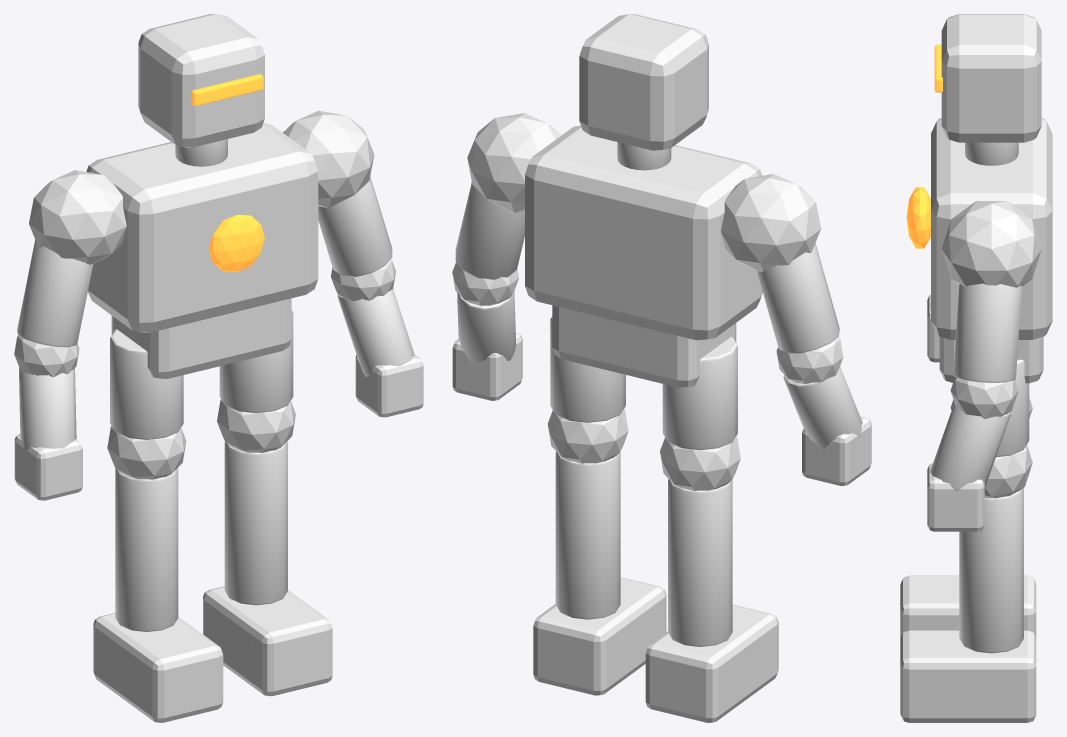
File: SM_WoodGolemTarget.glb
The picture shows the model from 3 angles, left to right: view 1: azimuth 30°, elevation 25°; view 2: azimuth 150°, elevation 25°; view 3: azimuth 270°, elevation 25°; orthographic projection. The views are drawn at different scales.
Parts seen in each view (by area): view 1: SM_WoodGolemTarget; view 2: SM_WoodGolemTarget; view 3: SM_WoodGolemTarget.
Boxes of the visible parts, <box> form: SM_WoodGolemTarget: <box>14,14,423,722</box>; SM_WoodGolemTarget: <box>452,14,871,722</box>; SM_WoodGolemTarget: <box>900,14,1052,722</box>.
Size of the model in its own units: 1.27 by 2.01 by 0.425.
